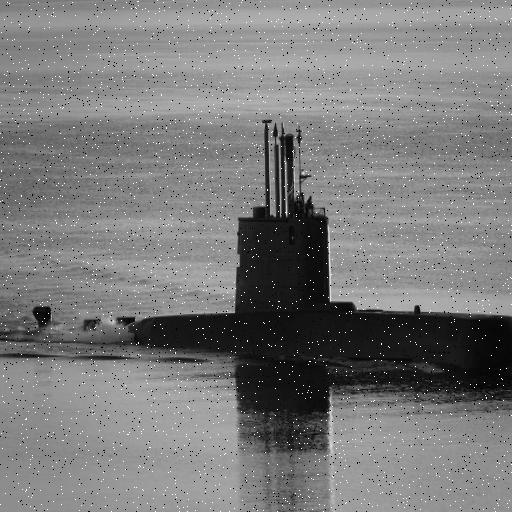submarine: (31, 120, 512, 358)
